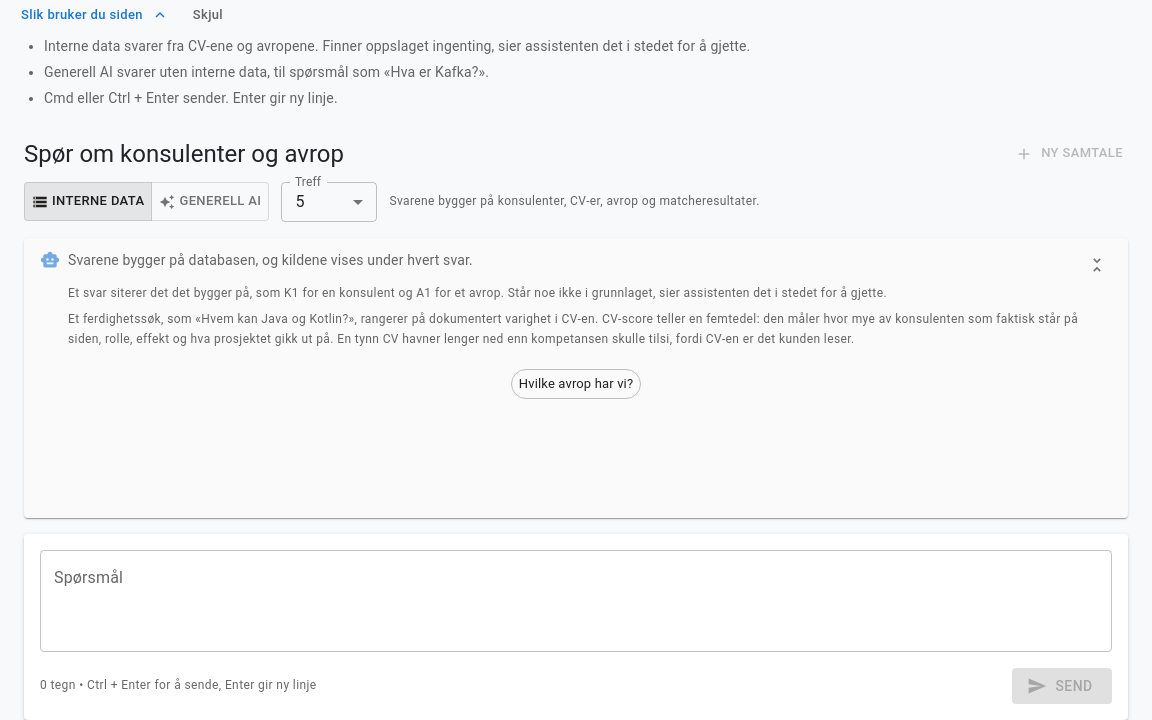
it: ChatAssistantPage › puts a picked example in the field without sending it
The width and height of the screenshot is (1152, 720).
(page scrolled)
Step 1. Click the button "Hvilke avrop har vi?" → (576, 384), box top-left (511, 369), bottom-right (641, 399)
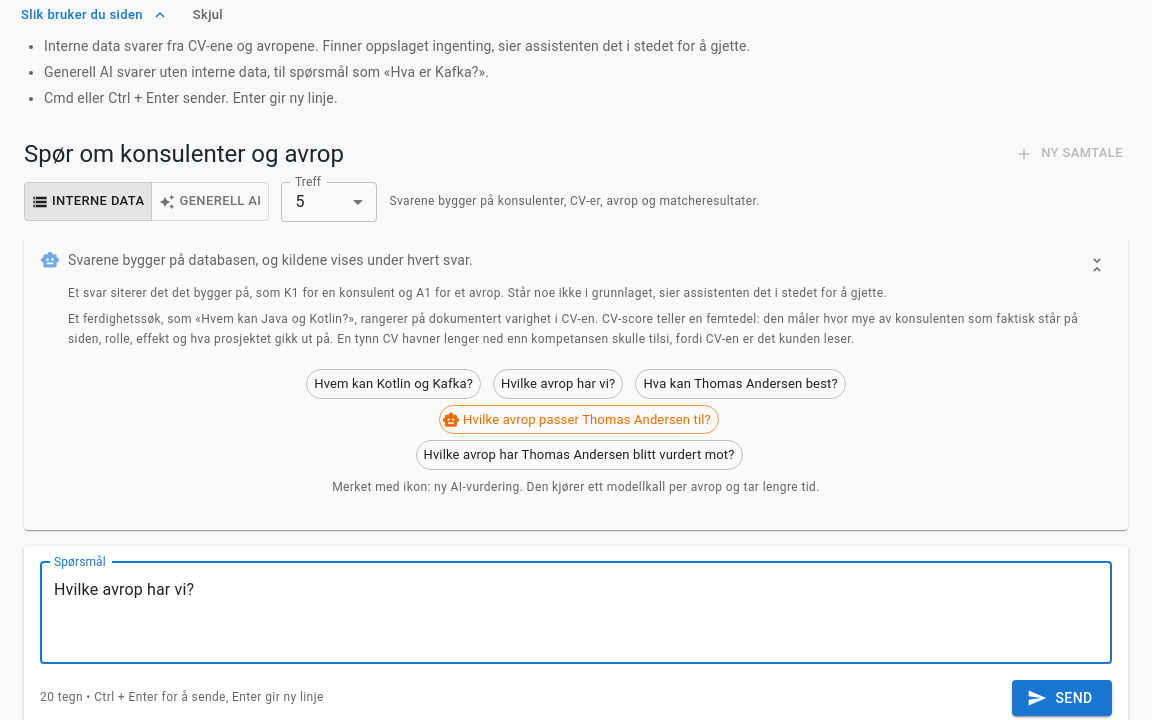
Result: the text box labelled "Spørsmål" holds "Hvilke avrop har vi?" at top-left (54, 578), bottom-right (1098, 647)
